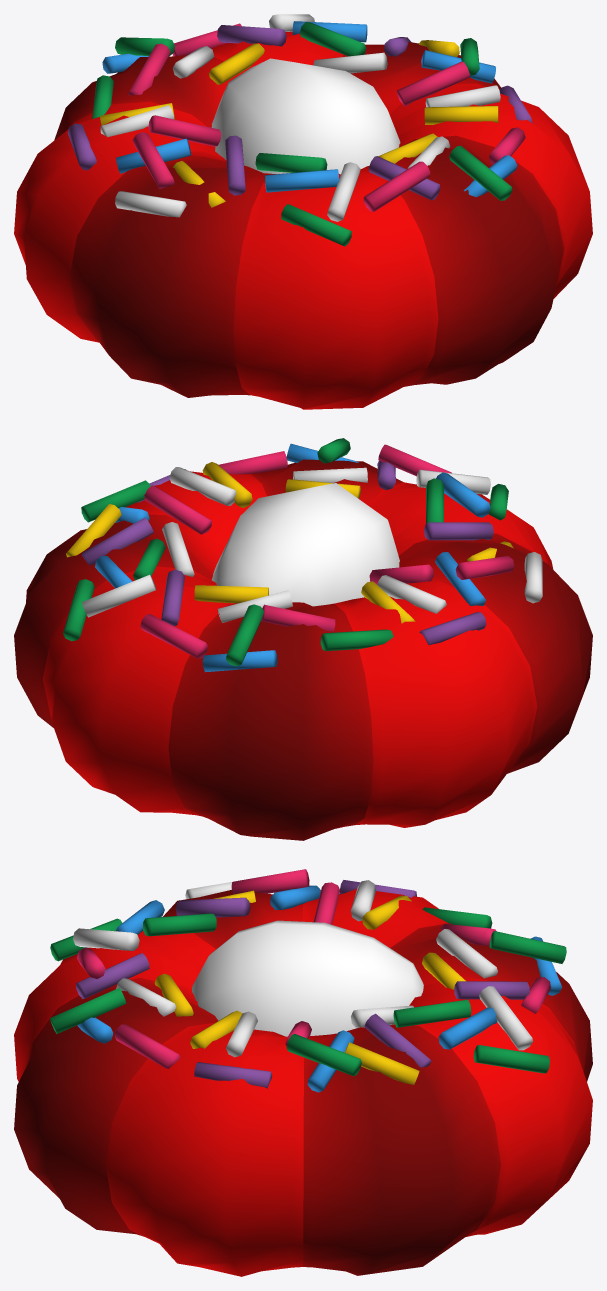
The model's file is EasterBread.fbx.
The picture shows the model from 3 angles, top to bottom: view 1: azimuth 30°, elevation 25°; view 2: azimuth 150°, elevation 25°; view 3: azimuth 270°, elevation 25°; orthographic projection. The views are drawn at different scales.
Parts seen in each view (by area): view 1: EasterBread, Sprinkles, Egg; view 2: EasterBread, Sprinkles, Egg; view 3: EasterBread, Sprinkles, Egg.
Part boxes in pixels (x1=…): EasterBread: x1=14, y1=31, x2=592, y2=409; Sprinkles: x1=67, y1=14, x2=532, y2=246; Egg: x1=211, y1=58, x2=400, y2=174; EasterBread: x1=14, y1=459, x2=592, y2=840; Sprinkles: x1=63, y1=438, x2=542, y2=672; Egg: x1=211, y1=483, x2=399, y2=606; EasterBread: x1=14, y1=889, x2=592, y2=1276; Sprinkles: x1=50, y1=869, x2=566, y2=1092; Egg: x1=192, y1=920, x2=423, y2=1036.
Size of the model in its own units: 34.5 by 17.72 by 34.5.
